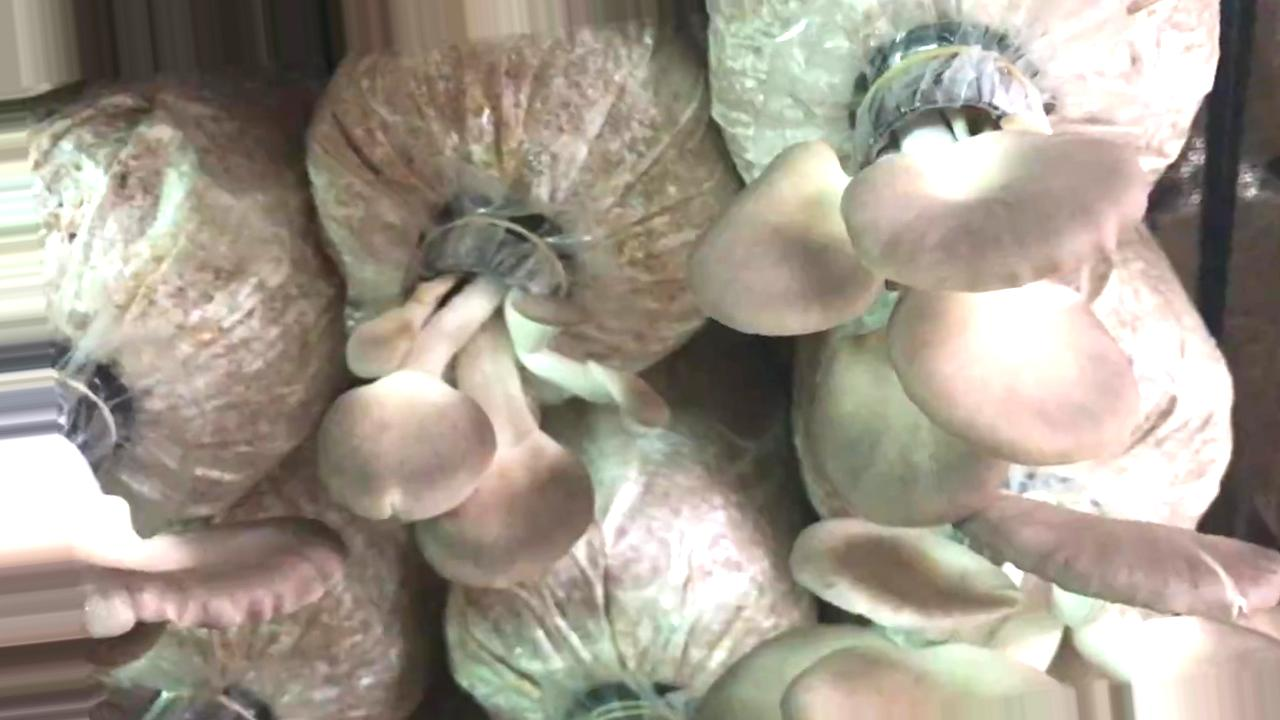nam: (696, 63, 1149, 525), (324, 207, 663, 593), (693, 503, 1280, 720), (1, 371, 341, 720)
